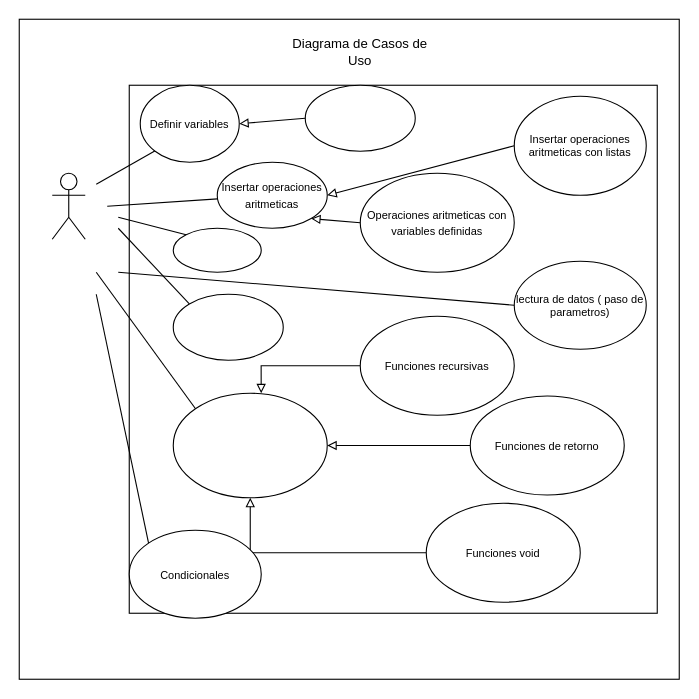
This 699x699 diagram has some shape labels left out. The centre of each missing label's shape, as x and y in pixels:
Ciclos: the point at 216,249
Crear funciones: the point at 249,445
Definir variables aritmeticas: the point at 359,117
Predicados: the point at 227,326
Programador: the point at 68,205
